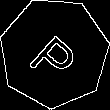P_NE: (24, 22, 84, 84)
